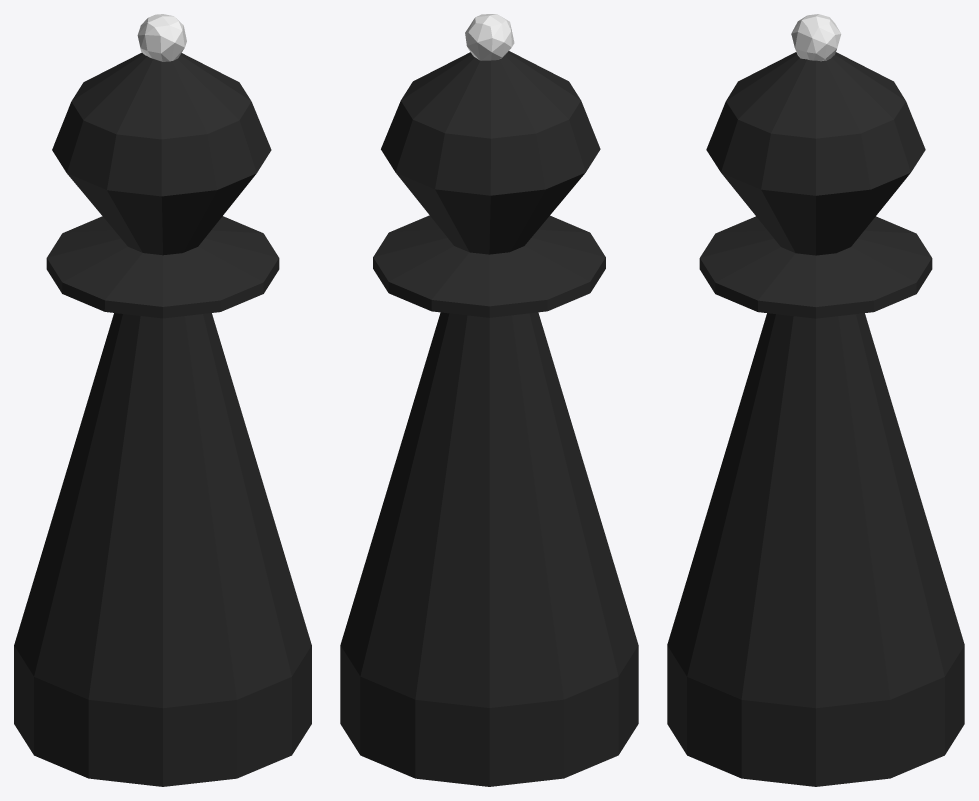
Rendered from chessKing.glb.
3 views of the same model, side by side, from view 1: azimuth 30°, elevation 25°; view 2: azimuth 150°, elevation 25°; view 3: azimuth 270°, elevation 25° (orthographic).
Visible parts, largest first — view 1: ChessKing; view 2: ChessKing; view 3: ChessKing.
Part boxes in pixels (bbox=[...]): ChessKing: bbox=[14, 14, 311, 786]; ChessKing: bbox=[340, 14, 638, 786]; ChessKing: bbox=[667, 14, 964, 786].
Size of the model in its own units: 0.0416 by 0.1091 by 0.0416.
Materials: 1 (1 with a texture image).
